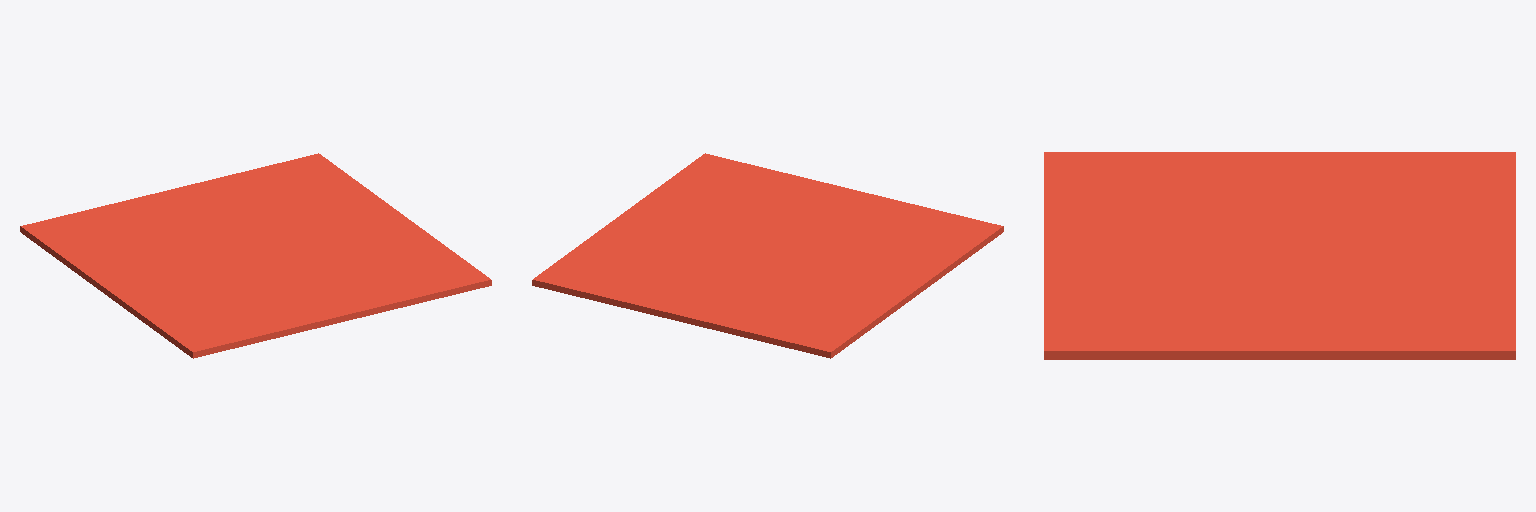
The robot description file, URDF, robot "ground":
<?xml version="1.0"?>
<robot name="ground"> 
  <link name="ground_base">
    <visual>
      <geometry>
        <box size="1 1 0.02"/>
      </geometry>
      <origin xyz="0 0 -0.01"/>
      <material name="Orange">
        <color rgba="1 0.4 0.3 0.6"/>
      </material>
    </visual>
    <collision>
      <geometry>
        <box size="1 1 0.02"/>
      </geometry>
      <origin xyz="0 0 -0.02"/>
    </collision>
  </link>
</robot>

--- Facts derived from the render (not from the file) ---
3 views of the same robot in one strip: view 1: azimuth 30°, elevation 25°; view 2: azimuth 150°, elevation 25°; view 3: azimuth 270°, elevation 25° (orthographic).
Model ground with 1 links and 0 joints (none), rooted at ground_base, posed all joints at 0.
Links seen in each view (by area): view 1: ground_base; view 2: ground_base; view 3: ground_base.
Link boxes in pixels (x1,y1,x2,y2): ground_base: (20, 153, 491, 358); ground_base: (532, 153, 1003, 358); ground_base: (1044, 152, 1515, 359).
Size in the robot's own frame: 1 by 1 by 0.02 metres.
Geometry: primitives only (box / cylinder / sphere), no mesh files.